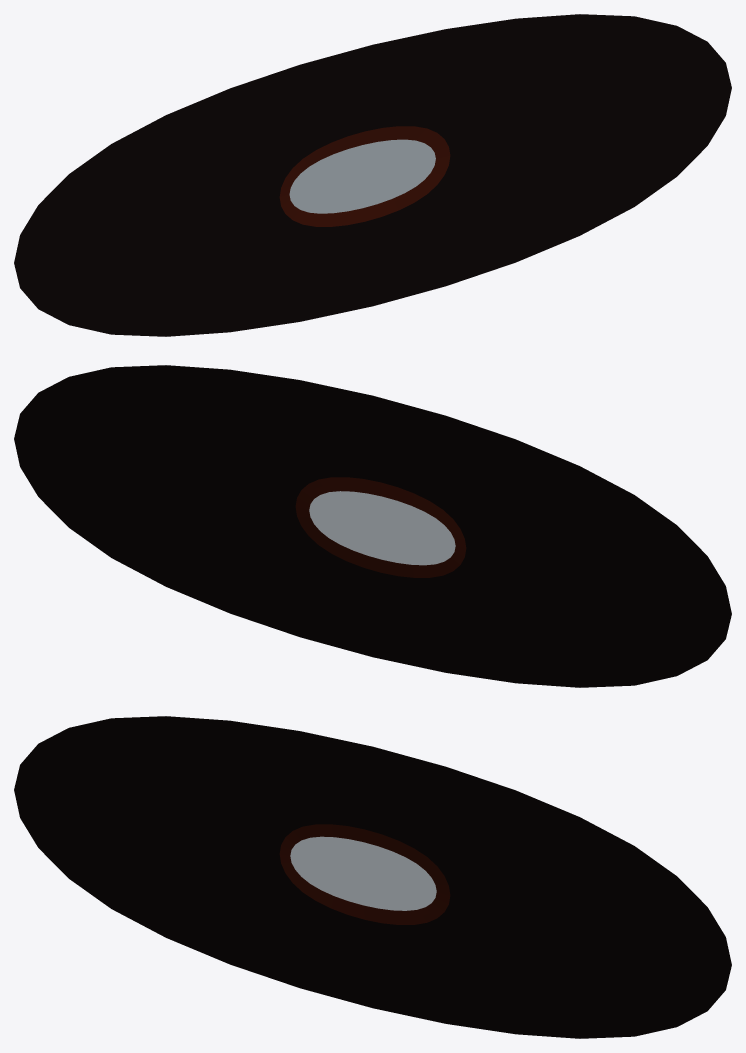
File: aquarium.obj
3 views of the same model, one above another, from view 1: azimuth 30°, elevation 25°; view 2: azimuth 150°, elevation 25°; view 3: azimuth 330°, elevation 25° (orthographic).
Visible parts, largest first — view 1: Aquarium_Plane.014; view 2: Aquarium_Plane.014; view 3: Aquarium_Plane.014.
Part boxes in pixels (bbox=[...]): Aquarium_Plane.014: bbox=[14, 14, 731, 336]; Aquarium_Plane.014: bbox=[14, 365, 731, 687]; Aquarium_Plane.014: bbox=[14, 716, 731, 1038].
Bounding box in the file's own units: 28.86 × 10.05 × 0.0289.
